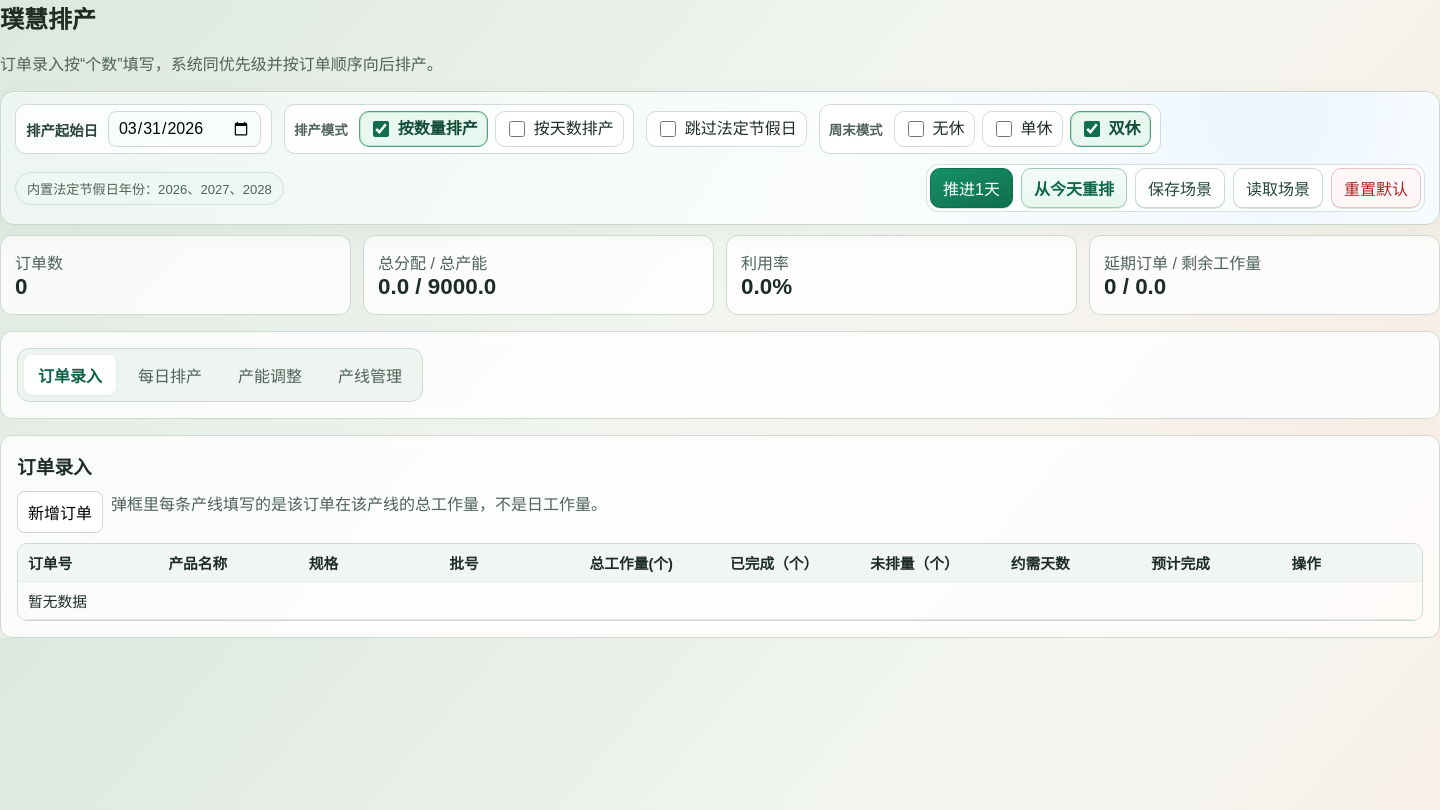
it: LiteSchedulerPage › supports editing and deleting an order
Click the button with test id "open-order-modal" at (60, 512), box [17, 491, 103, 533]
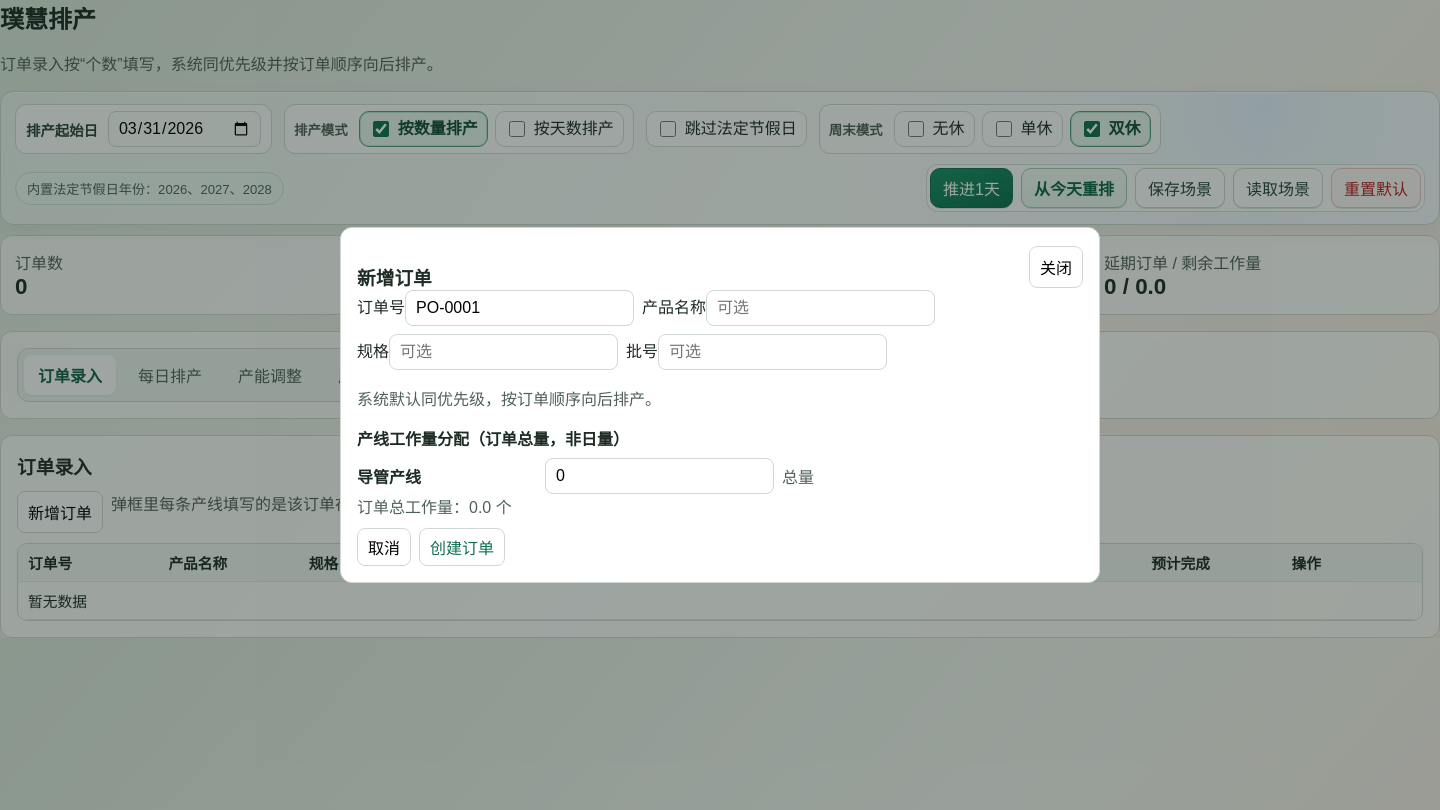
Replace the text in the field with test id "order-no-input" with "EDIT-ME" at (520, 308), box [405, 290, 634, 326]
Replace the text in the number field with test id "^order-line-days-" with "2" at (660, 476), box [545, 458, 774, 494]
Click the button with test id "submit-order-modal" at (462, 547), box [419, 528, 505, 566]
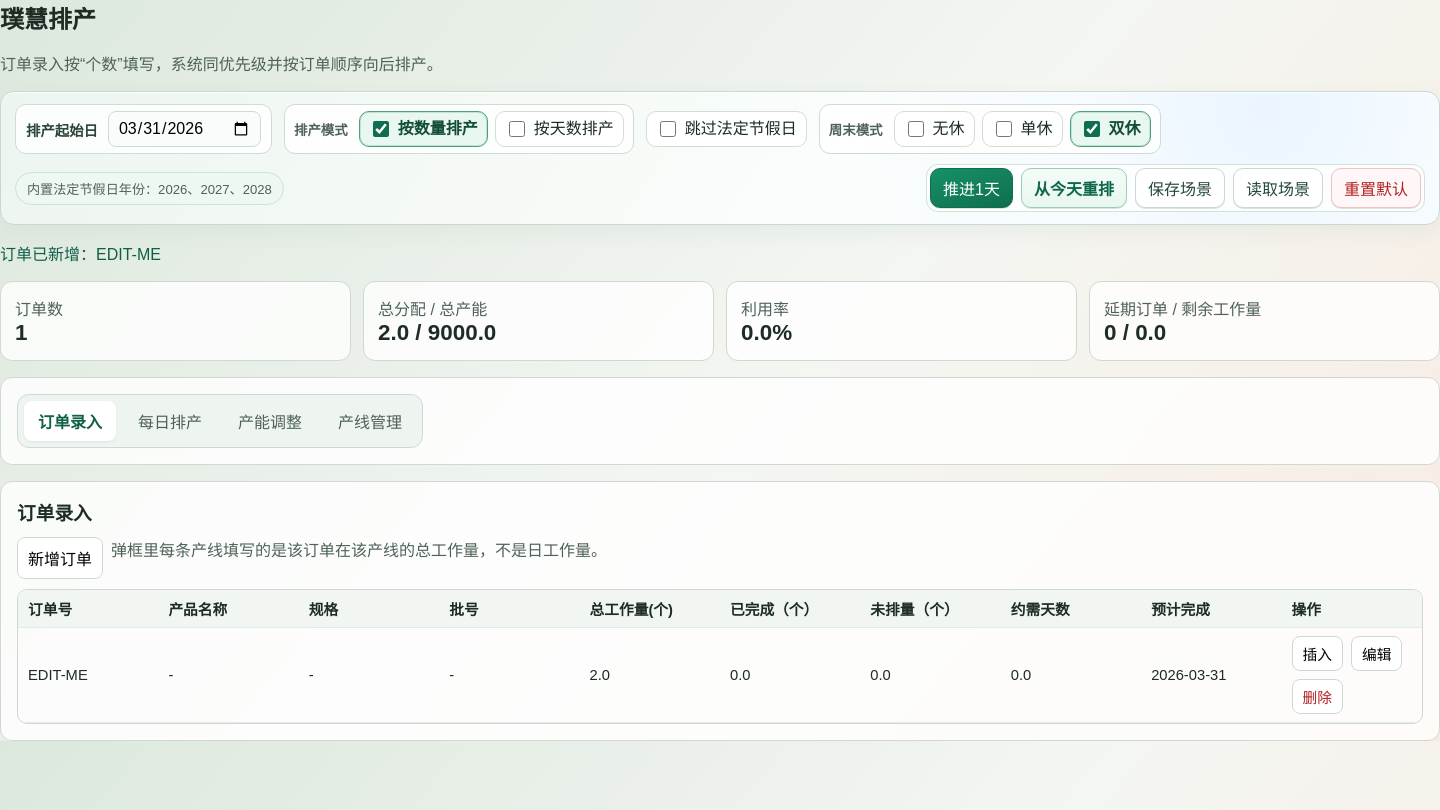
Expected: the text "EDIT-ME" is shown, [28, 667, 88, 683]
Click the button "编辑" at (1377, 654), box [1351, 636, 1402, 671]
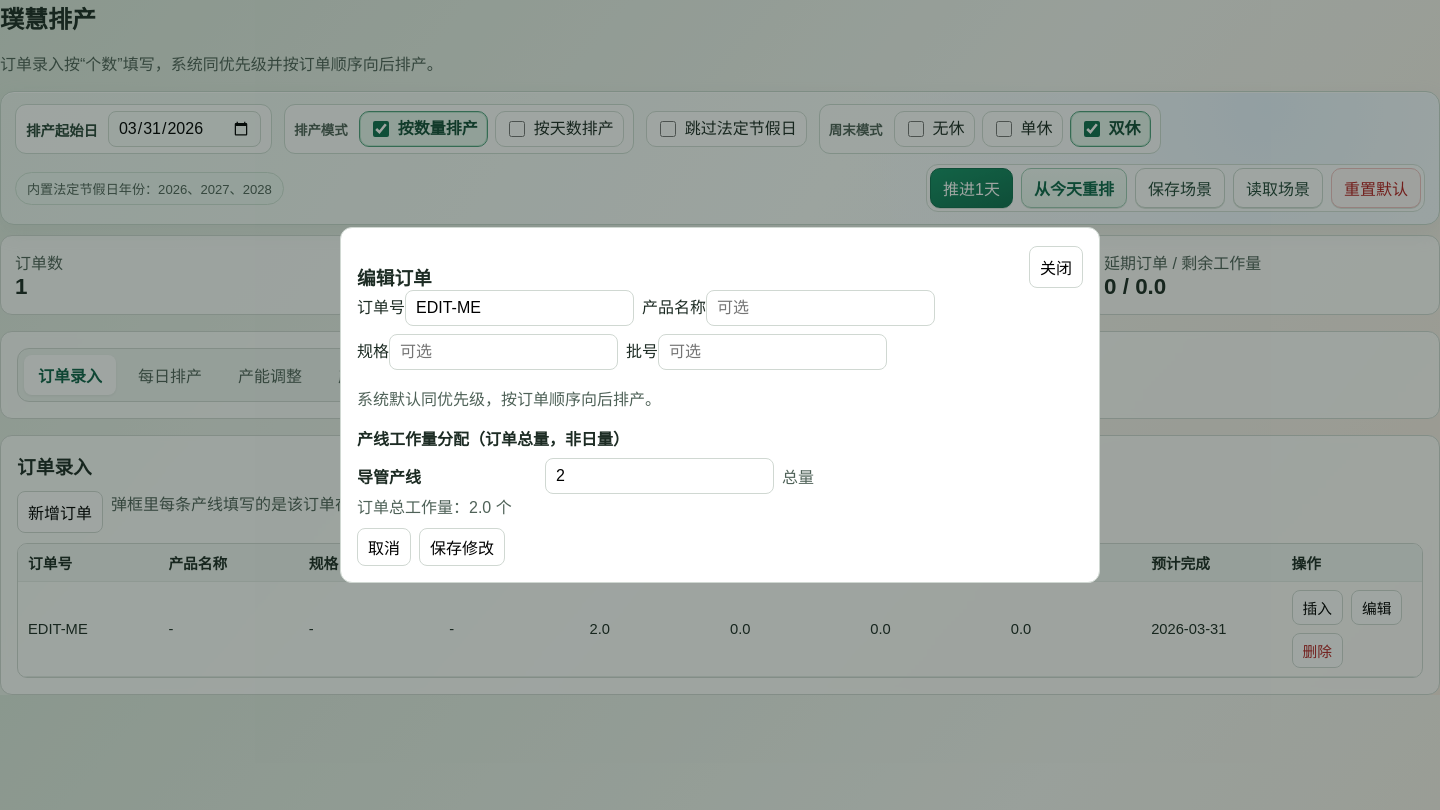
Replace the text in the field with test id "order-no-input" with "EDITED-ORDER" at (520, 308), box [405, 290, 634, 326]
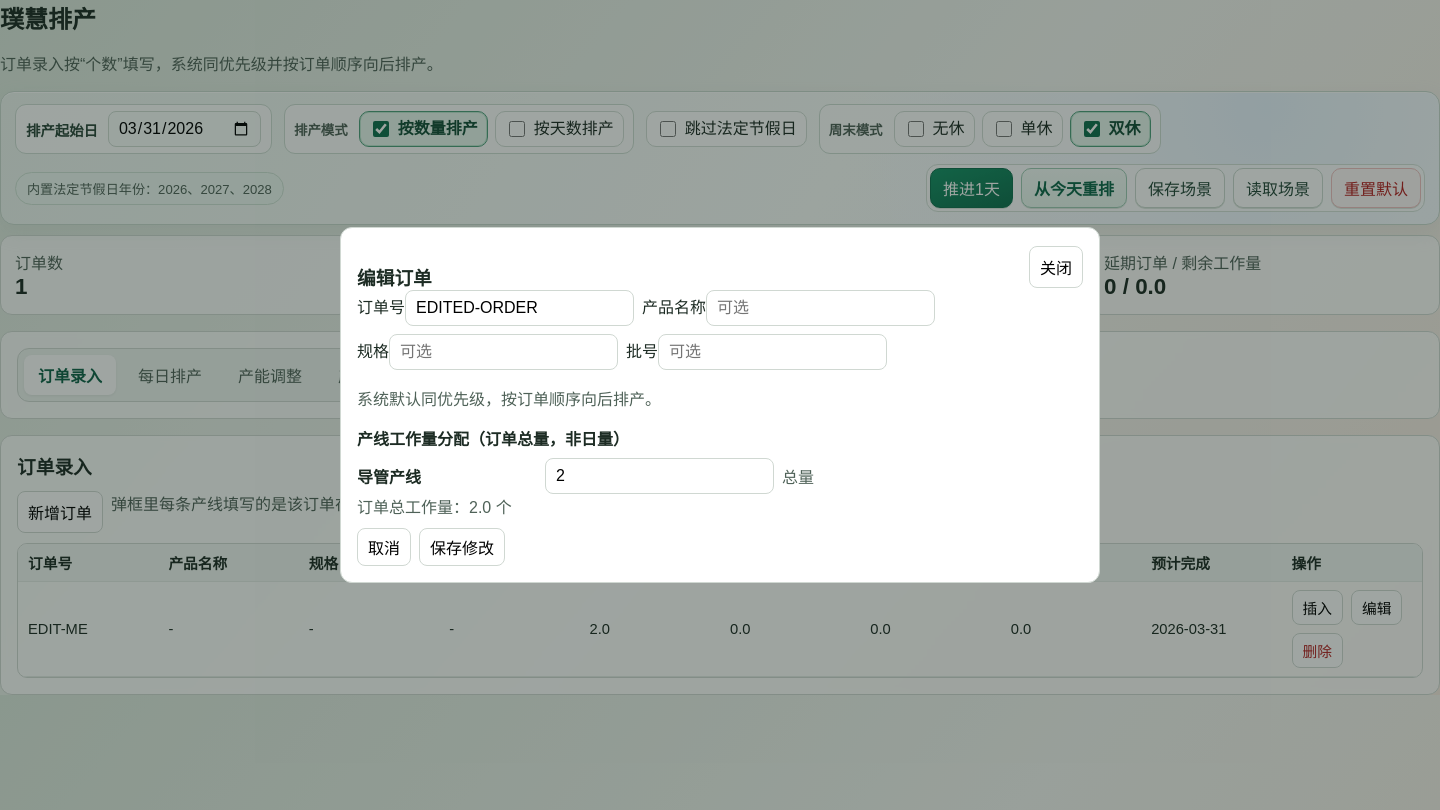
Click the button with test id "submit-order-modal" at (462, 547), box [419, 528, 505, 566]
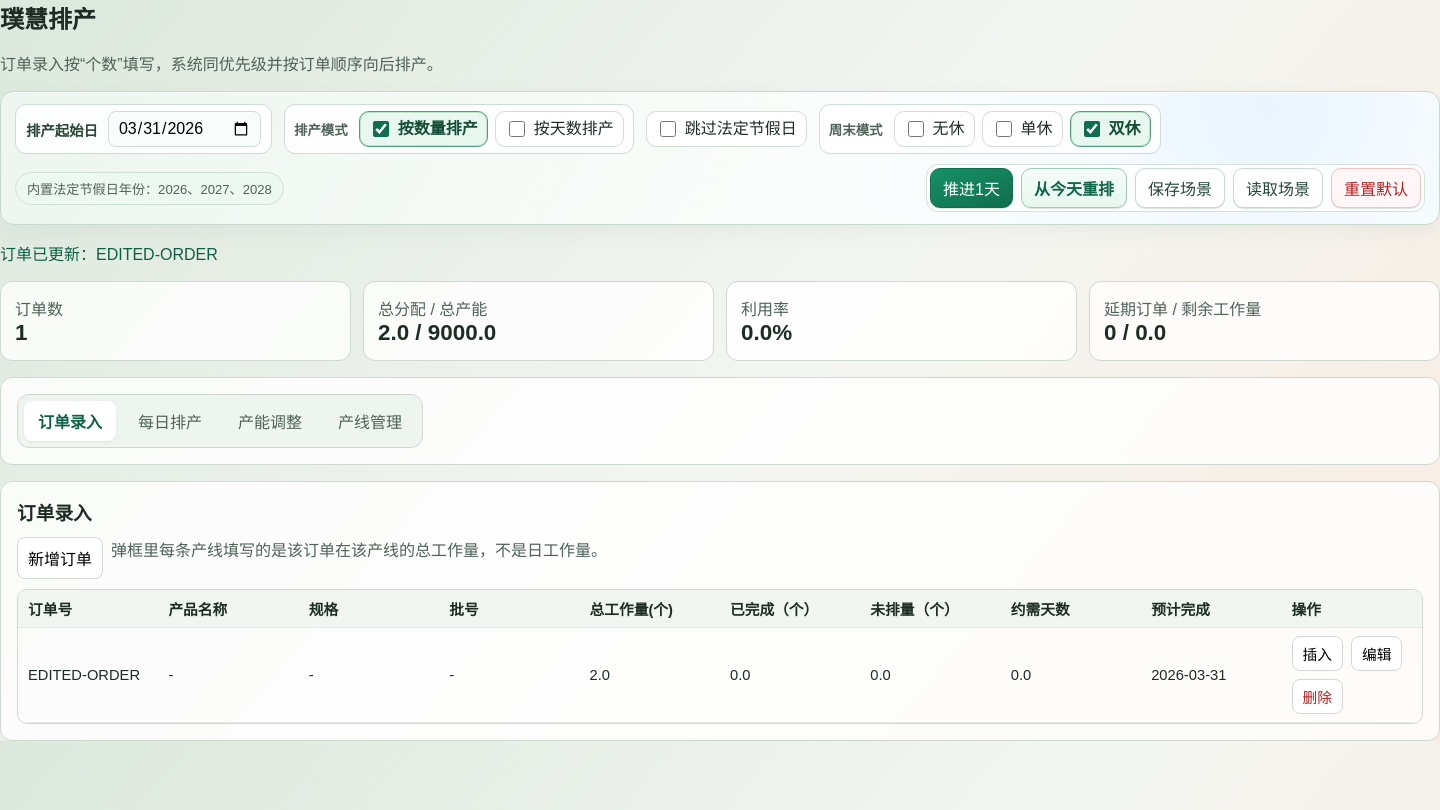
Expected: the text "EDIT-ME" is shown, [18, 628, 1422, 722]
Expected: the text "EDITED-ORDER" is shown, [18, 628, 158, 722]
Click the button "删除" at (1317, 696), box [1292, 679, 1343, 714]
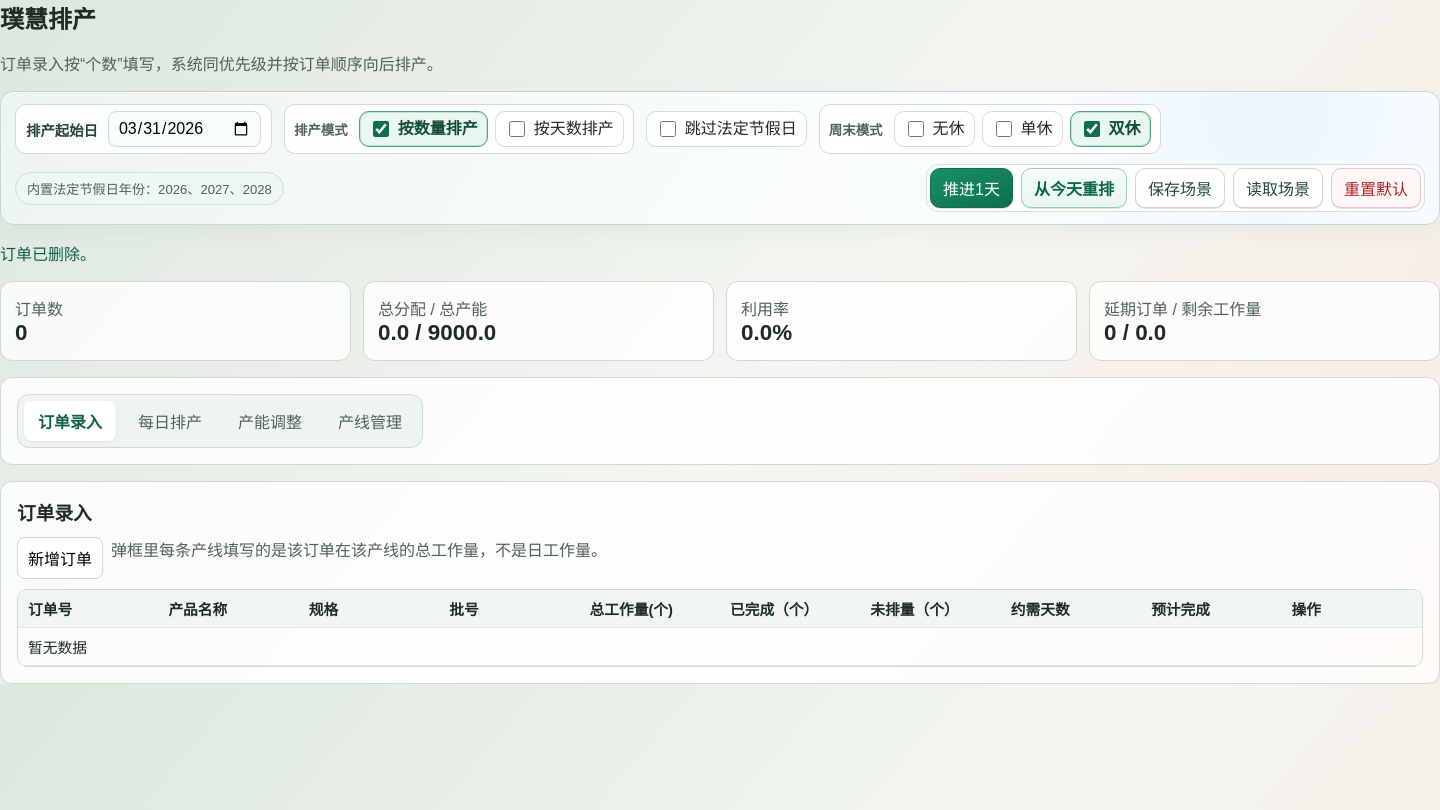
Expected: the text "EDITED-ORDER" is gone
